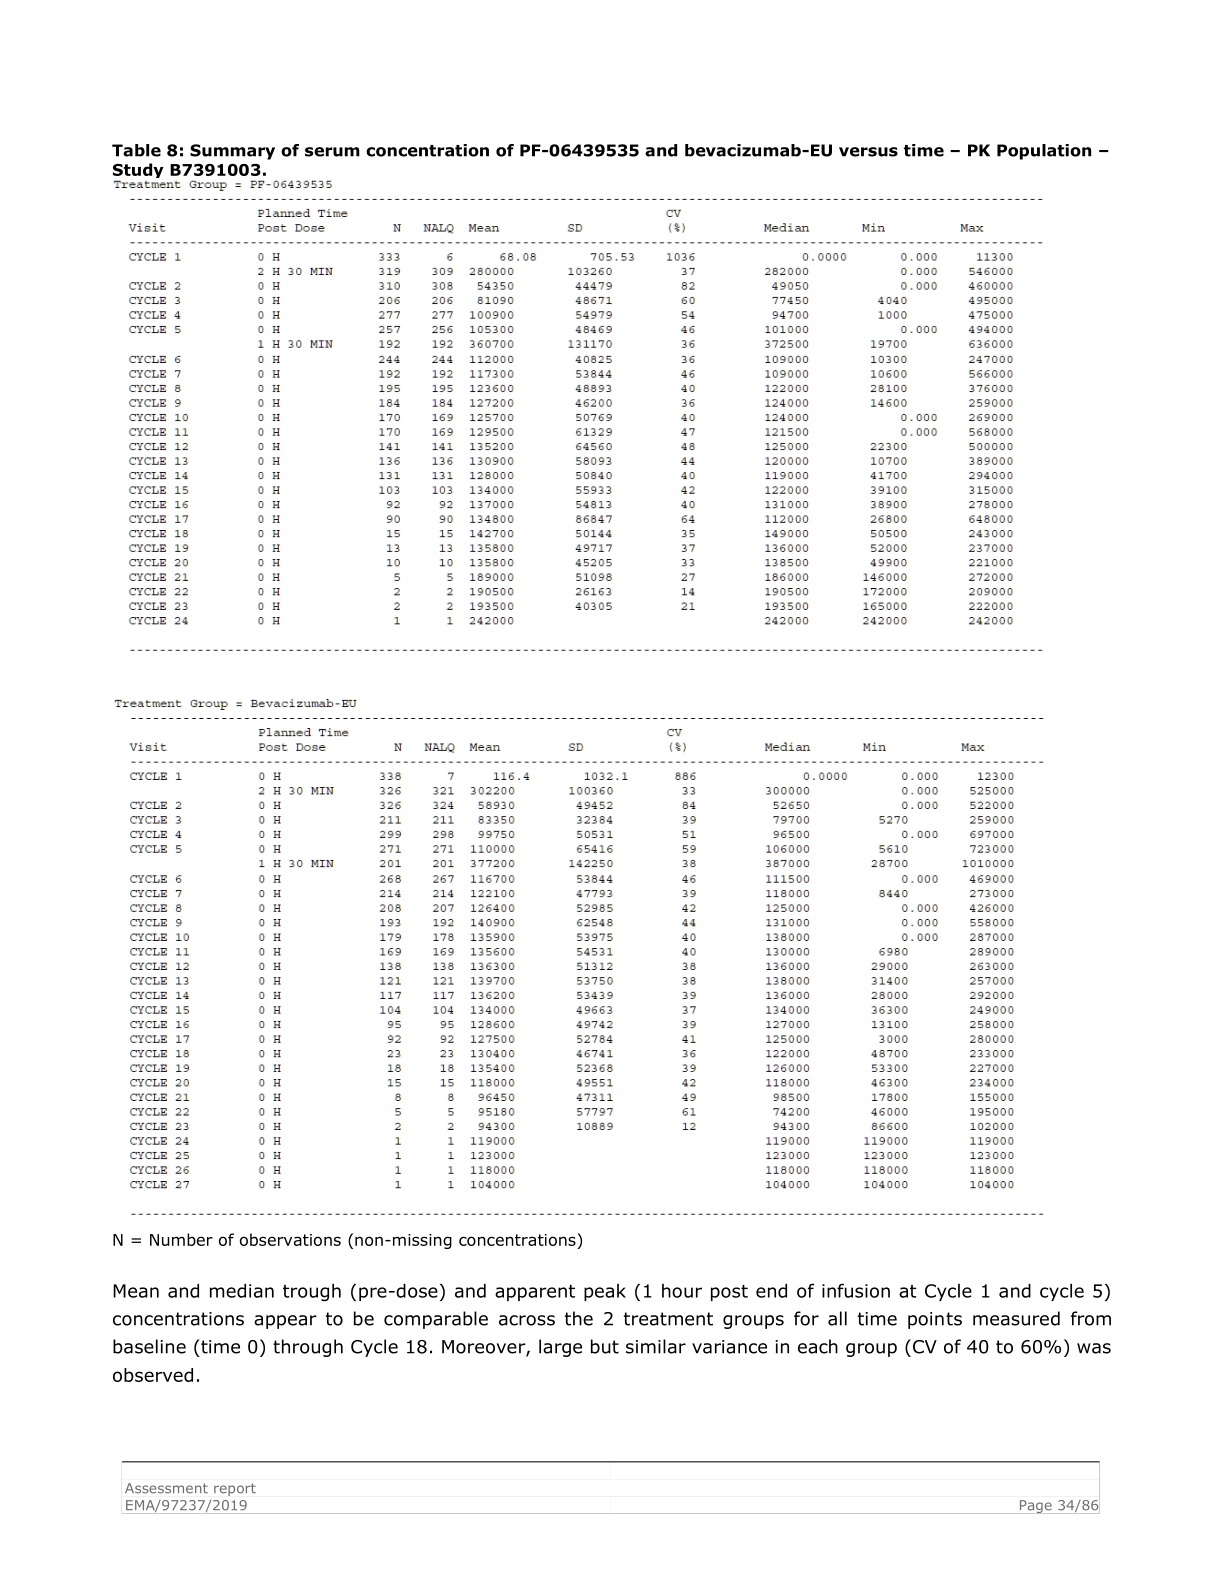partial_lined_merged_cells: (129, 717, 1044, 1215), (127, 198, 1043, 651)
